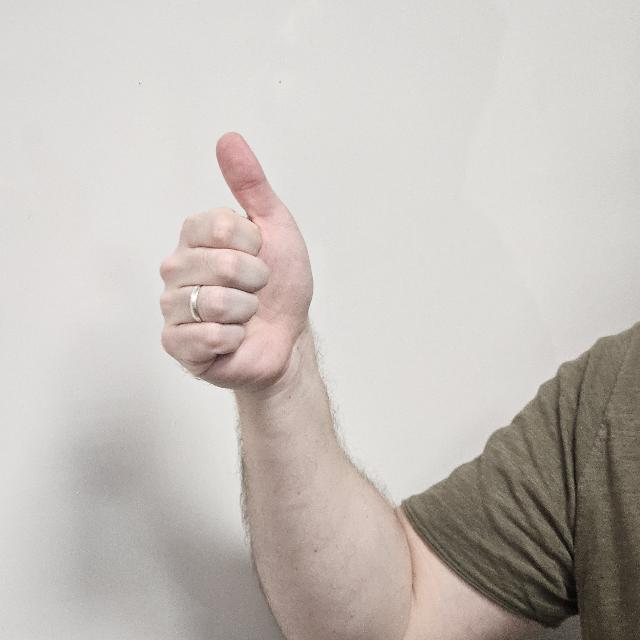Start: (153, 132, 320, 398)
